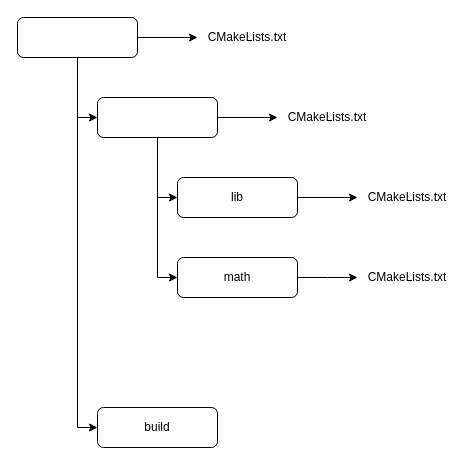
Image size: 475x465. Some labels were removed from this diagram. Each missing label, with the centre of its shape:
"Nó Raiz" goes at point 77,37.
"source" goes at point 157,117.
